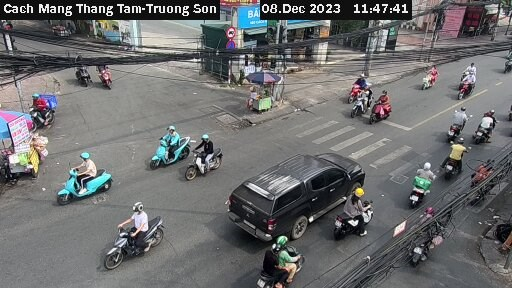car: (229, 150, 363, 239)
motorbike: (102, 205, 165, 265), (51, 154, 109, 203), (258, 237, 308, 288), (398, 210, 447, 262), (185, 132, 226, 184), (337, 186, 375, 242), (397, 159, 438, 209), (149, 121, 190, 169), (437, 138, 473, 183), (84, 49, 122, 90), (25, 92, 63, 132), (471, 102, 499, 143), (439, 103, 468, 139), (71, 55, 99, 92), (365, 91, 395, 125), (338, 69, 373, 96), (453, 75, 483, 102), (347, 86, 371, 117)
